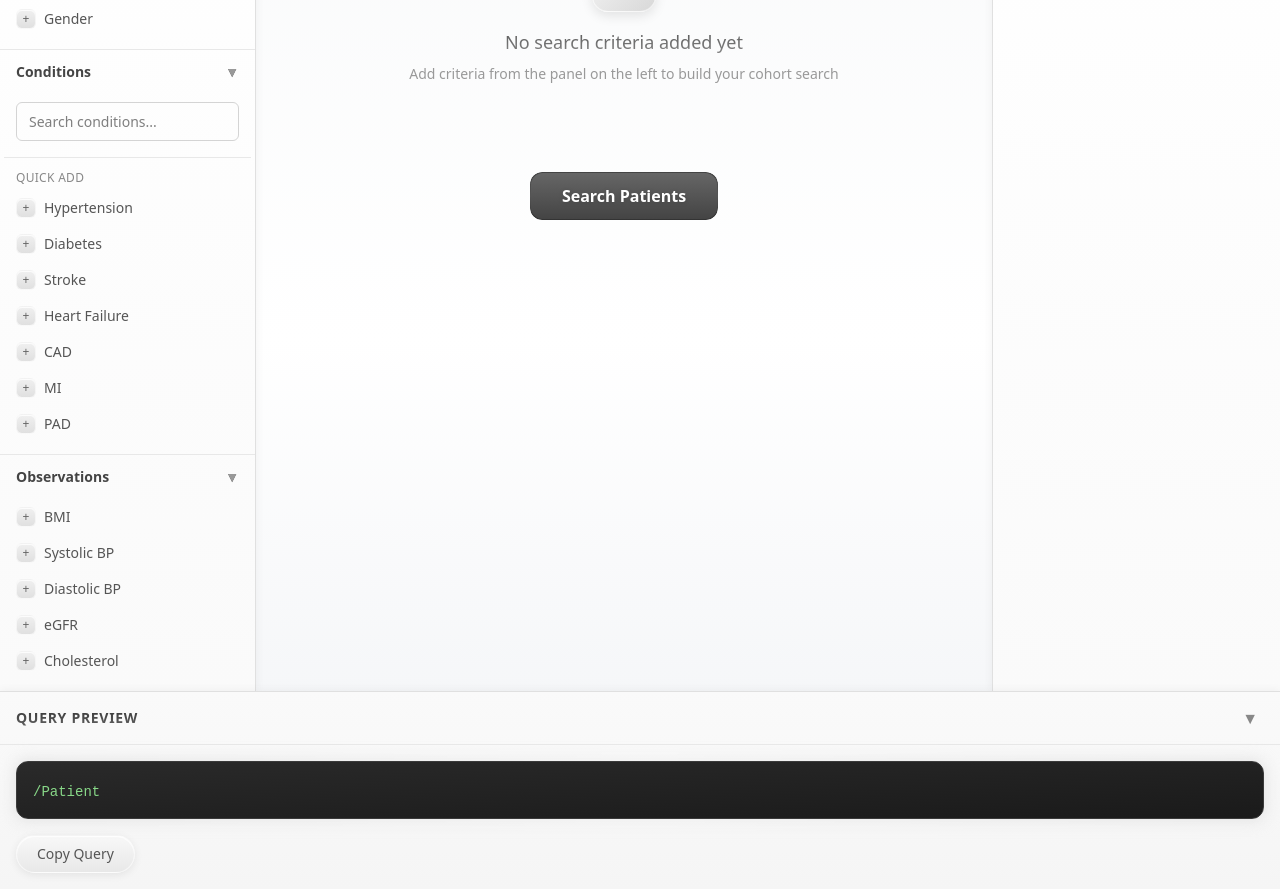
CohortBuilderPage › Panel toggling › should collapse query preview panel
The image size is (1280, 889).
(page scrolled)
Click the button named "Collapse query preview": [1250, 718] box [1236,700,1264,736]
(page scrolled)
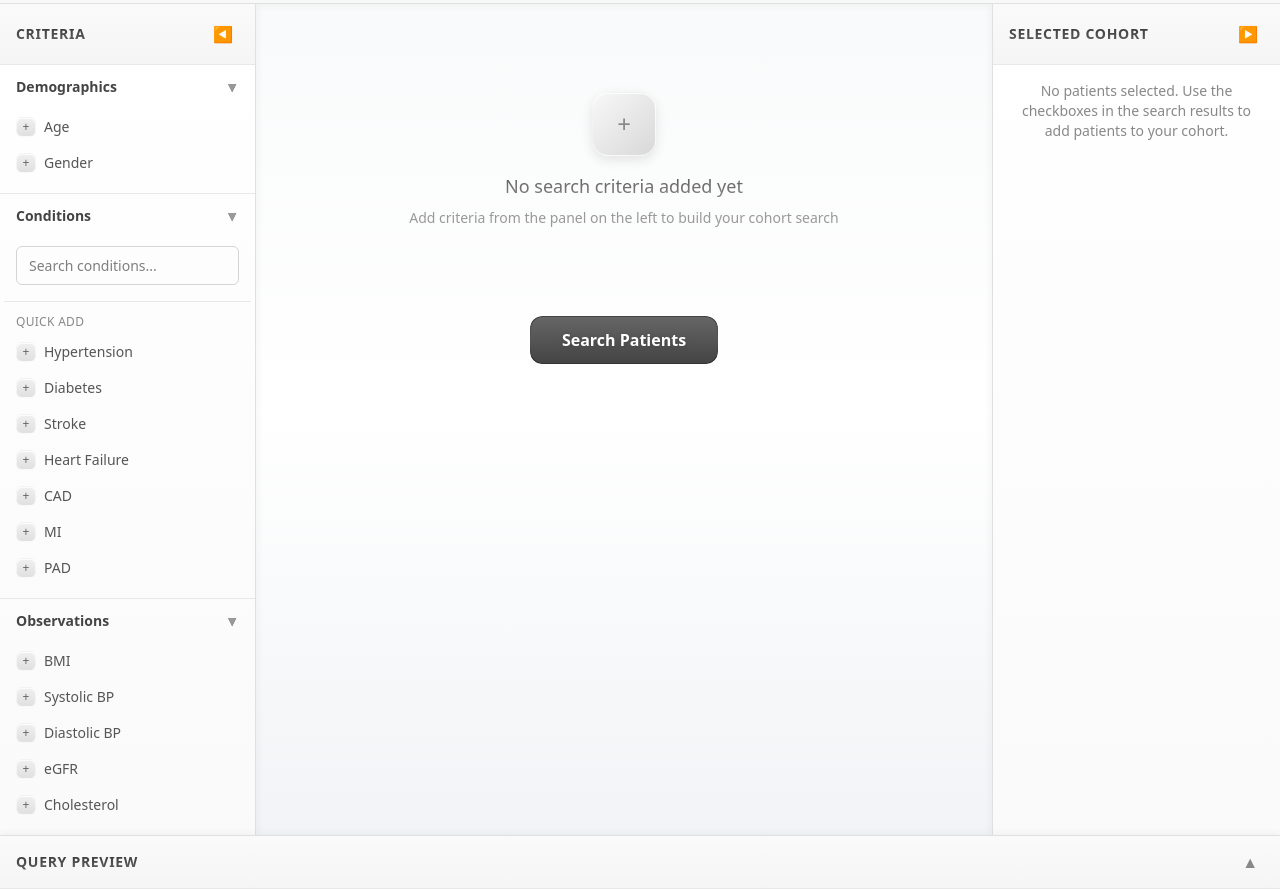
Check: the text "/Patient" is gone
Check: the button named "Expand query preview" is shown, box [1236,844,1264,880]
